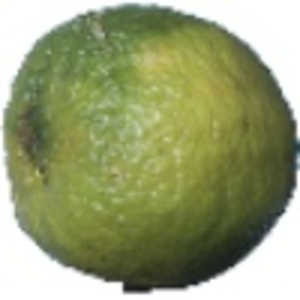limão: (1, 1, 300, 293)
